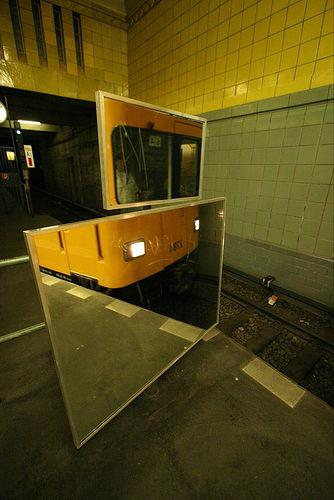Train: (35, 208, 204, 287), (106, 97, 205, 207)
